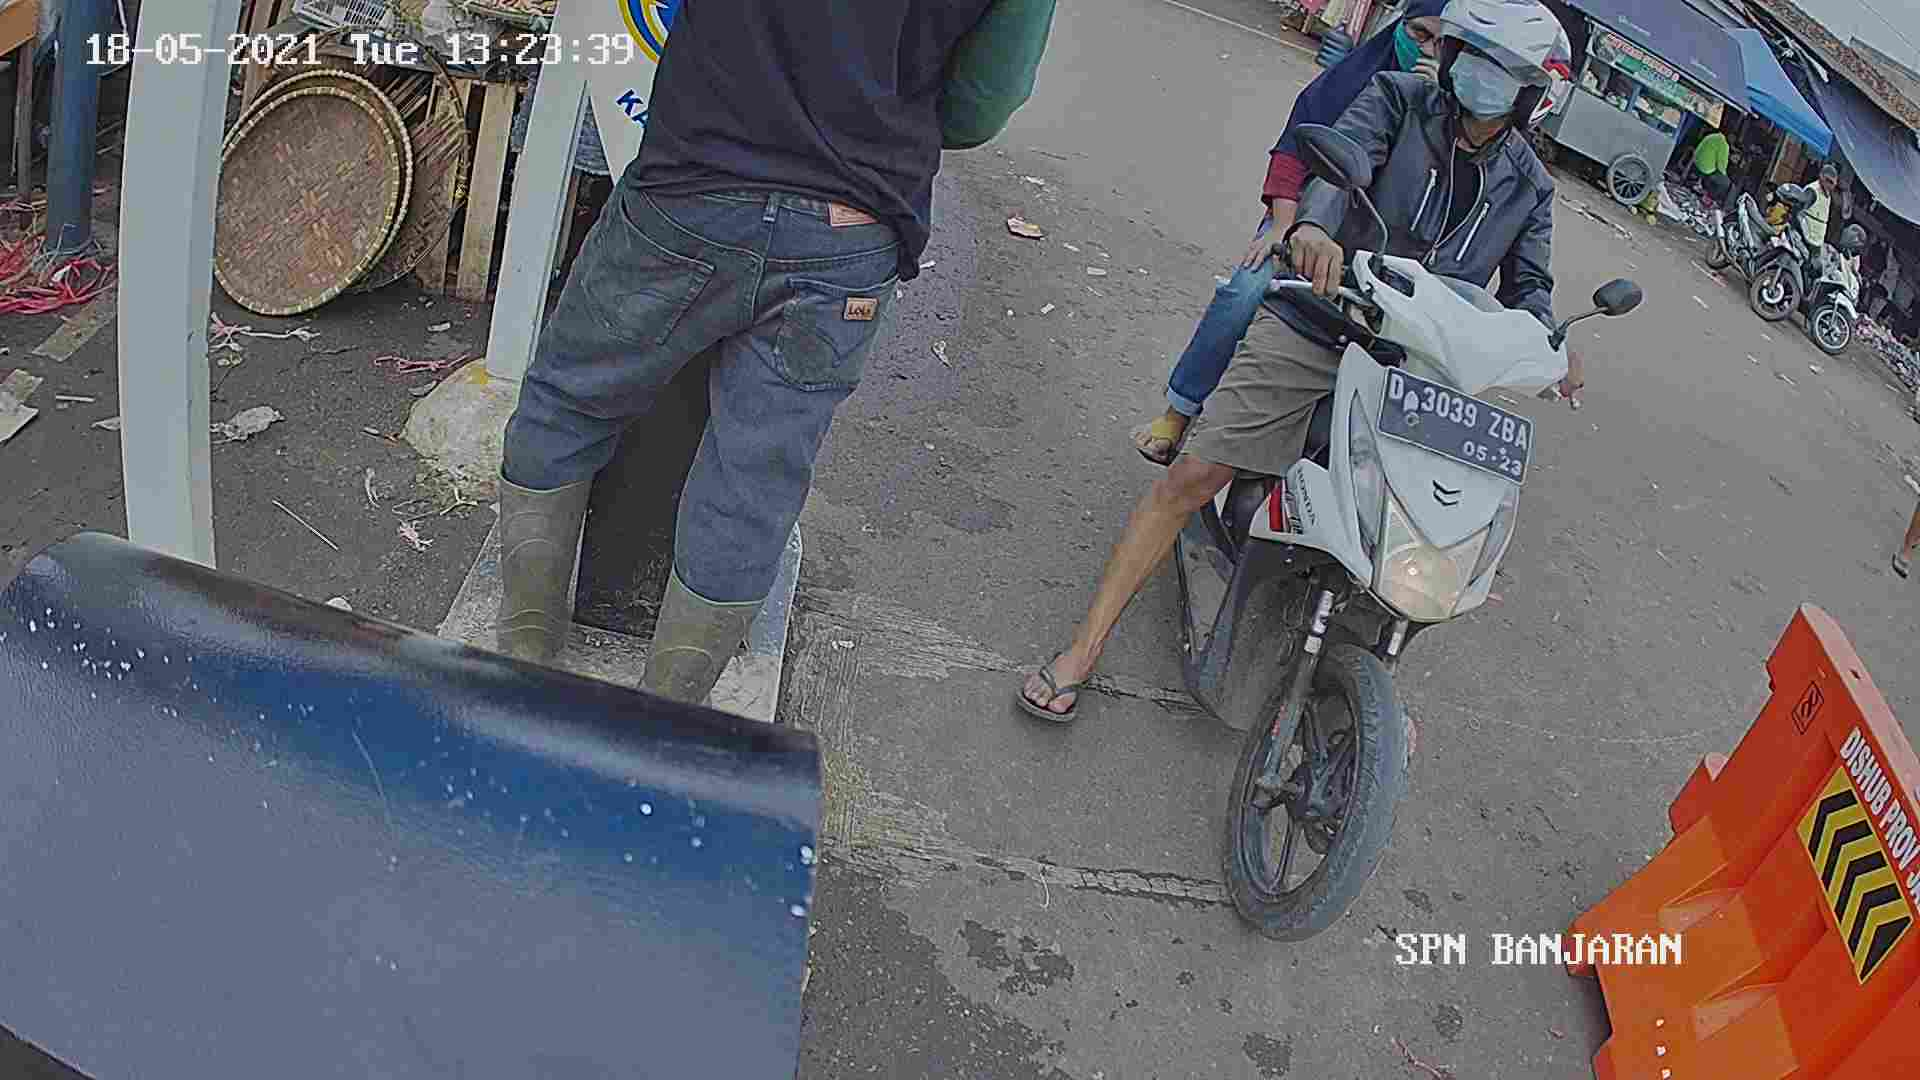motor: (1137, 225, 1578, 953)
